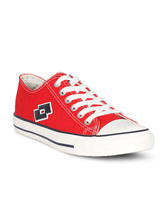shoes: (7, 68, 157, 161)
